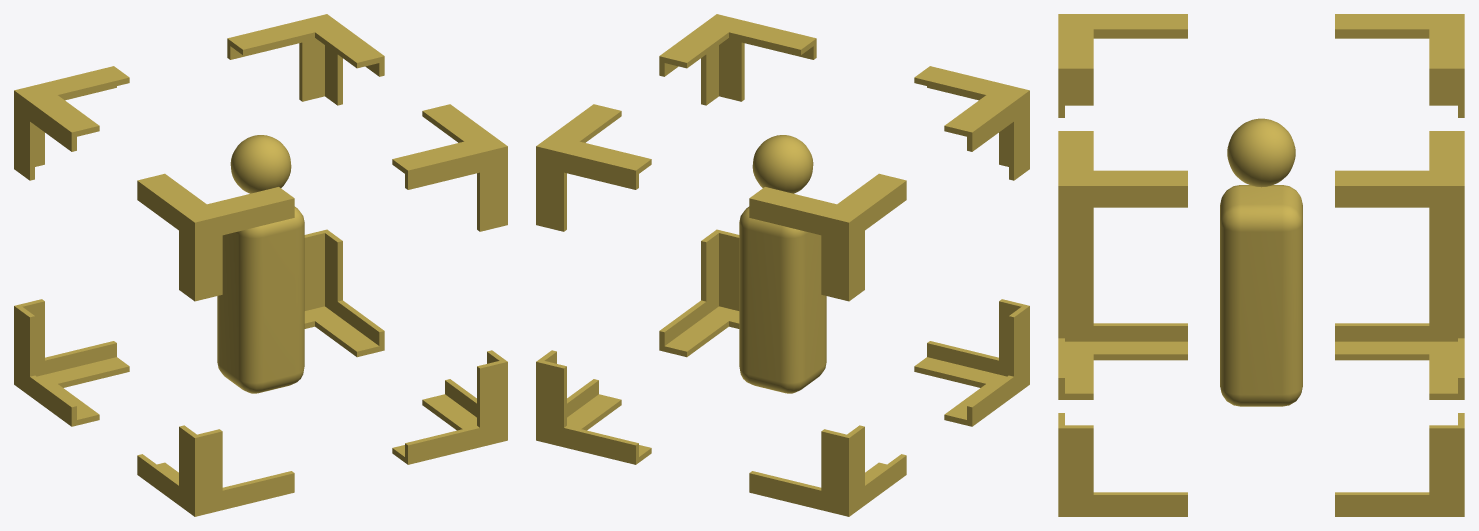
Rendered from icon inform.fbx.
3 views of the same model, side by side, from view 1: azimuth 30°, elevation 25°; view 2: azimuth 150°, elevation 25°; view 3: azimuth 270°, elevation 25° (orthographic). The views are drawn at different scales.
Parts seen in each view (by area): view 1: inform_cube, inform_icon, inform_sphere; view 2: inform_cube, inform_icon, inform_sphere; view 3: inform_cube, inform_icon, inform_sphere.
Part boxes in pixels (x1,y1,x2,y2): inform_cube: (14, 14, 507, 516); inform_icon: (217, 206, 304, 393); inform_sphere: (230, 135, 291, 193); inform_cube: (536, 14, 1029, 516); inform_icon: (739, 206, 826, 393); inform_sphere: (752, 135, 813, 193); inform_cube: (1058, 14, 1464, 516); inform_icon: (1220, 185, 1302, 406); inform_sphere: (1227, 118, 1295, 187).
Size of the model in its own units: 0.1185 by 0.1064 by 0.1185.
